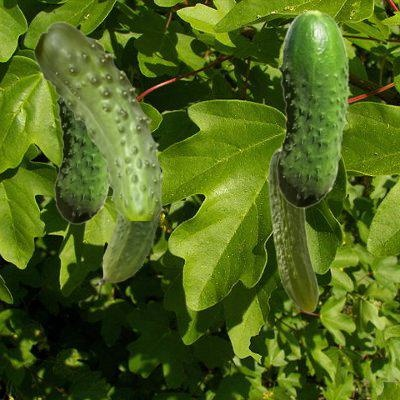cucumber: (33, 21, 163, 219), (276, 9, 349, 207), (268, 147, 318, 312), (93, 179, 161, 285), (54, 96, 109, 223)
